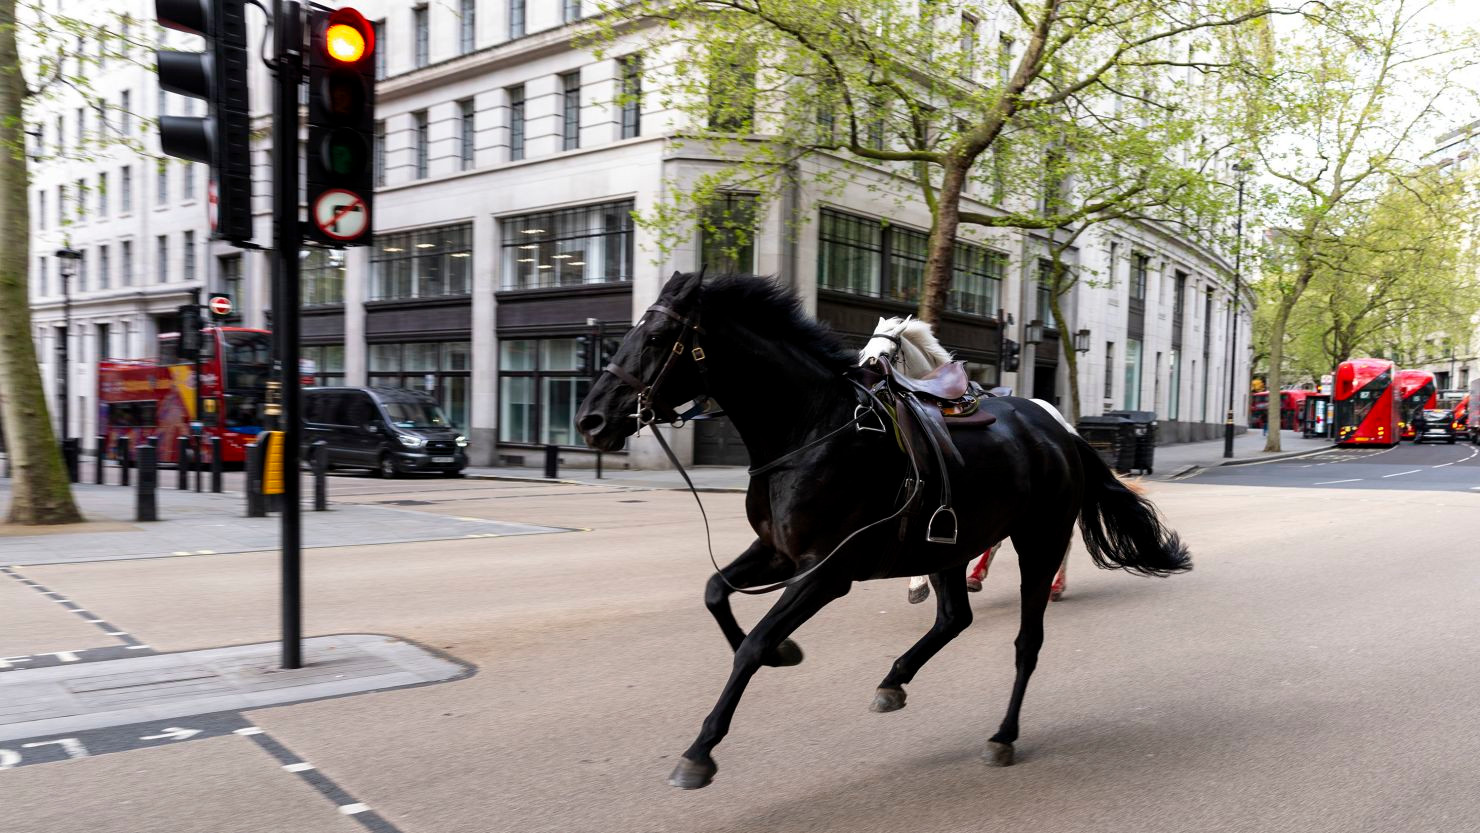horse: (570, 263, 1196, 792)
